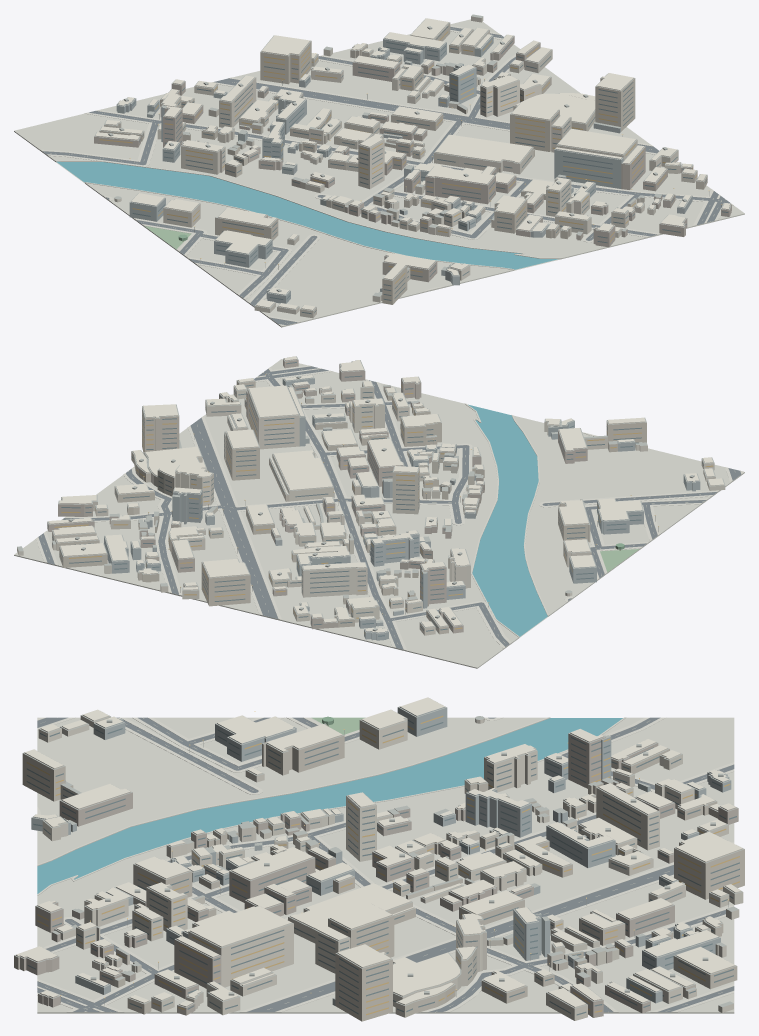
3 views of the same model, one above another, from view 1: azimuth 30°, elevation 25°; view 2: azimuth 150°, elevation 25°; view 3: azimuth 270°, elevation 25° (orthographic). The views are drawn at different scales.
Visible parts, largest first — view 1: city; view 2: city; view 3: city.
Boxes of the visible parts, bbox=[...] form: city: bbox=[14, 14, 744, 327]; city: bbox=[14, 356, 744, 668]; city: bbox=[14, 697, 744, 1021].
Size of the model in its own units: 520 by 44.05 by 525.
